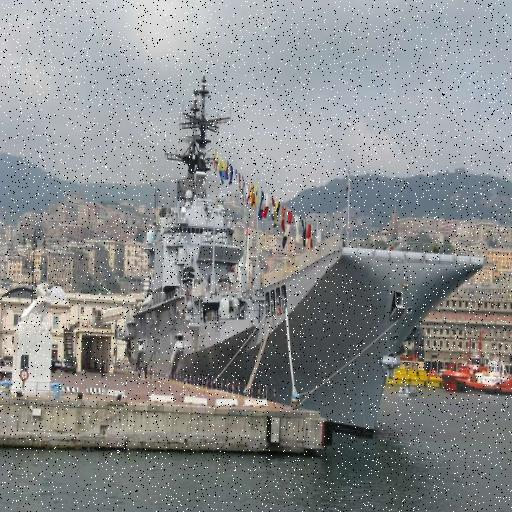Portanaves: (123, 68, 487, 453)
